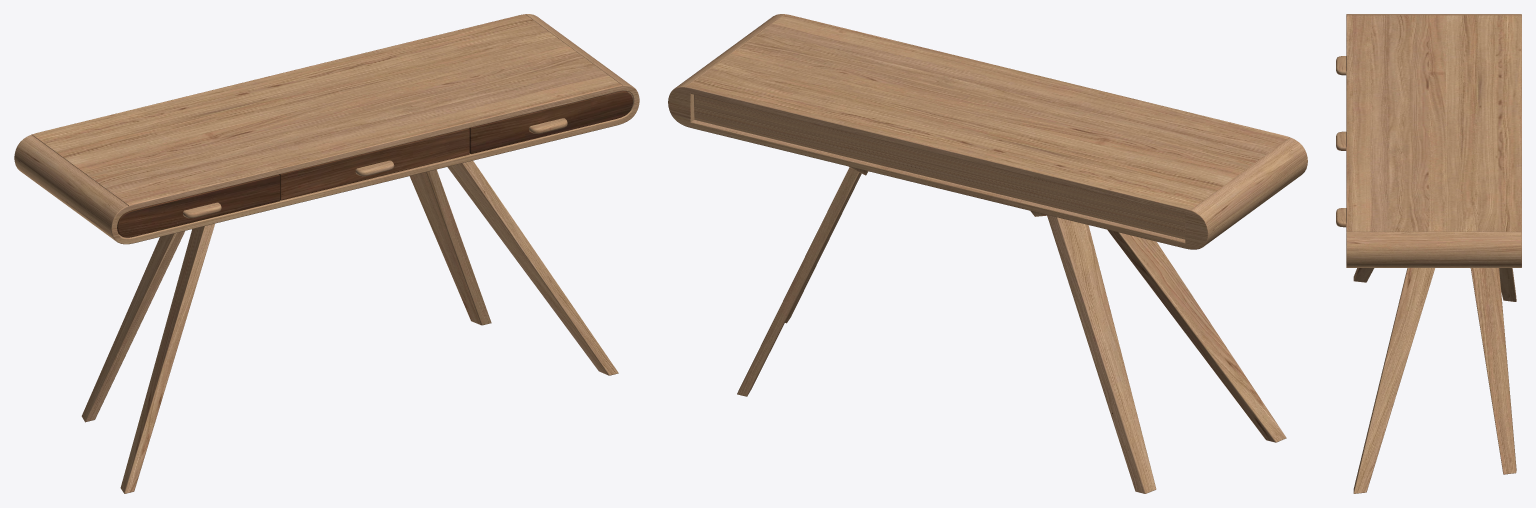
File: desk.glb
The picture shows the model from 3 angles, left to right: view 1: azimuth 30°, elevation 25°; view 2: azimuth 150°, elevation 25°; view 3: azimuth 270°, elevation 25°; orthographic projection. The views are drawn at different scales.
Parts seen in each view (by area): view 1: Fonteyn_Console_Desk_Walnut_and_Red_WALNUT_0, Fonteyn_Console_Desk_Walnut_and_Red_RED_0; view 2: Fonteyn_Console_Desk_Walnut_and_Red_WALNUT_0; view 3: Fonteyn_Console_Desk_Walnut_and_Red_WALNUT_0.
Part boxes in pixels (x1,y1,x2,y2): Fonteyn_Console_Desk_Walnut_and_Red_WALNUT_0: (14, 14, 639, 493); Fonteyn_Console_Desk_Walnut_and_Red_RED_0: (117, 91, 632, 237); Fonteyn_Console_Desk_Walnut_and_Red_WALNUT_0: (668, 14, 1307, 493); Fonteyn_Console_Desk_Walnut_and_Red_WALNUT_0: (1336, 14, 1521, 493).
Size of what is drawn, in the model's own units: 141 by 74.21 by 47.62.
Materials: 2 (2 with a texture image).
